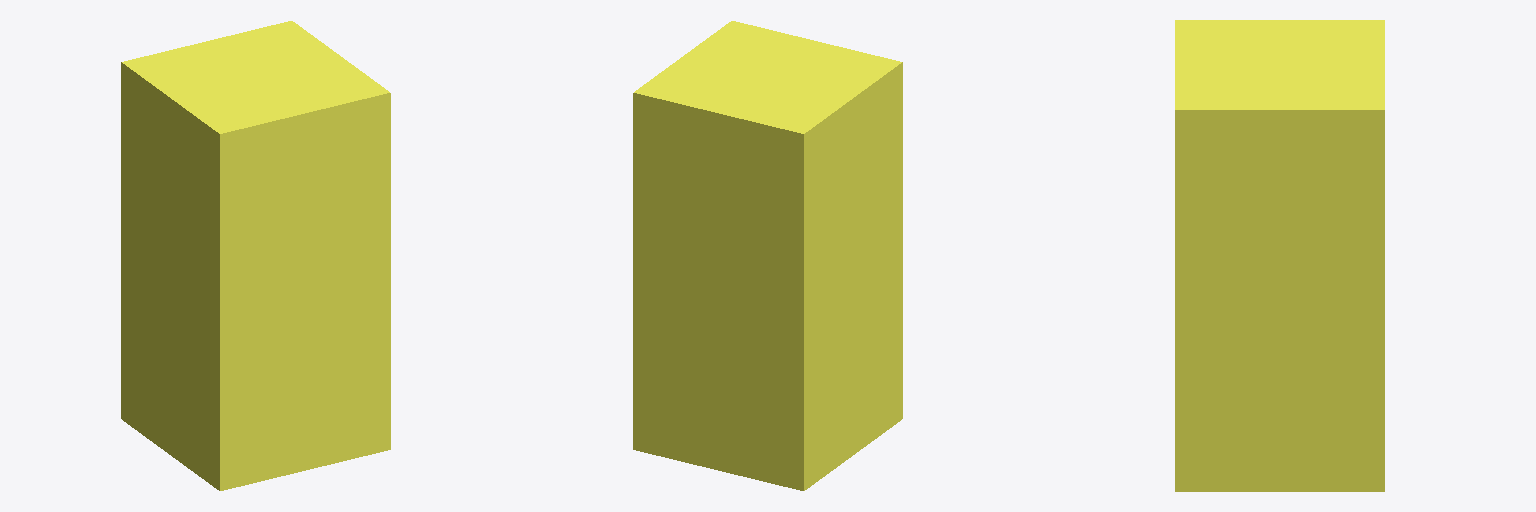
robot.urdf — cube:
<?xml version="1.0" ?>
<robot name="cube">
  <link name="base_link">
    <contact>
      <lateral_friction value="3.0"/>
      <rolling_friction value="1.0"/>
      <contact_cfm value="0.0"/>
      <contact_erp value="1.0"/>
    </contact>
    <inertial>
      <origin rpy="0 0 0" xyz="0 0 0"/>
       <mass value="0.1"/>
       <inertia ixx="1" ixy="0" ixz="0" iyy="1" iyz="0" izz="1"/>
    </inertial>
    <visual>
      <origin rpy="0 0 0" xyz="0.0 0.0 0.0"/> 
      <!-- <origin rpy="0 0 0" xyz="-0.02 -0.02 -0.03"/> -->
      <geometry>
        <mesh filename="peg.obj" scale="1 1 1"/>
      </geometry>
       <material name="yellow">
        <color rgba="1.0 1.0 0.4 1"/>
      </material>
    </visual>
    <collision>
      <origin rpy="0 0 0" xyz="0 0 0"/>
      <geometry>   
        <box size="0.039 0.039 0.08"/>
    	 <!-- <mesh filename="peg.obj" scale="1 1 1"/>  -->
      </geometry>
    </collision>
  </link>
</robot>

--- Render facts (derived) ---
The picture shows the robot from 3 angles, left to right: view 1: azimuth 30°, elevation 25°; view 2: azimuth 150°, elevation 25°; view 3: azimuth 270°, elevation 25°; orthographic projection.
Robot: cube — 1 links, 0 joints (none); root link base_link; default pose: every joint at zero.
Links seen in each view (by area): view 1: base_link; view 2: base_link; view 3: base_link.
Boxes of the visible links, x1,y1,x2,y2 form: base_link: [121, 21, 390, 490]; base_link: [633, 21, 902, 490]; base_link: [1175, 20, 1384, 491].
Size in the robot's own frame: 0.04 by 0.04 by 0.08 metres.
1 mesh visuals loaded from 1 distinct referenced files (1 OBJ).